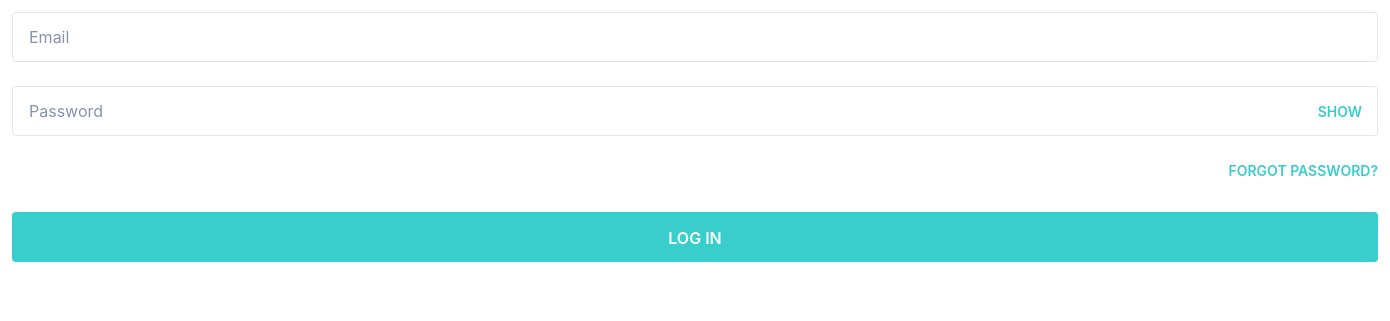
Scenario: LoginForm › shows validation errors on empty submit
Click the button with test id "login-button": (695, 237) [12,212,1378,262]
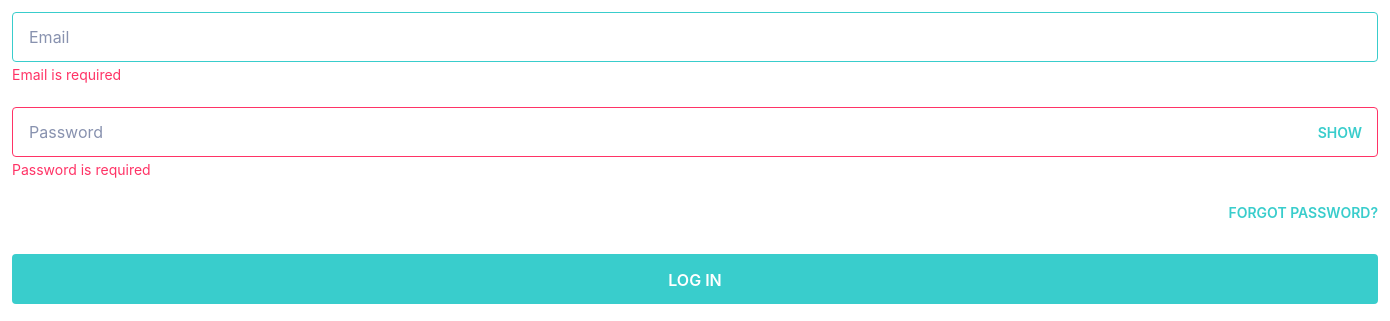
Expected: the text with test id "email-error" reads "Email is required", [12,66,121,83]
Expected: the text with test id "password-error" reads "Password is required", [12,161,151,178]
